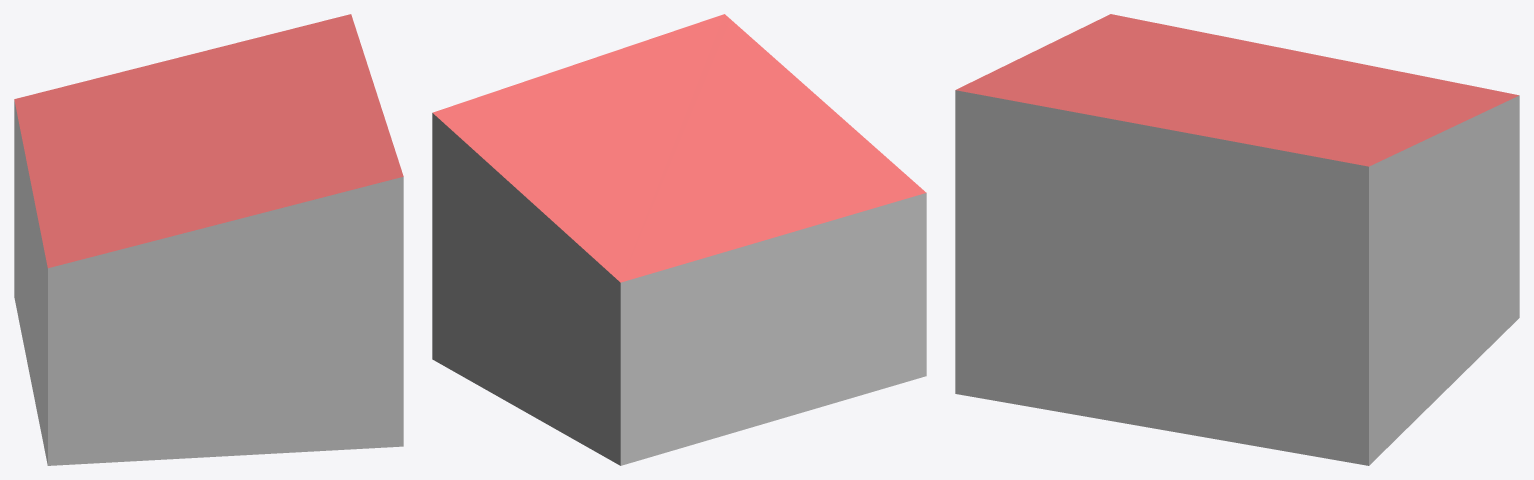
The model's file is DEBY_LOD2_4908159.gltf.
3 views of the same model, side by side, from view 1: azimuth 30°, elevation 25°; view 2: azimuth 150°, elevation 25°; view 3: azimuth 270°, elevation 25° (orthographic). The views are drawn at different scales.
Parts seen in each view (by area): view 1: Z_UP; view 2: Z_UP; view 3: Z_UP.
Part boxes in pixels (x1=…): Z_UP: x1=14, y1=14, x2=403, y2=465; Z_UP: x1=432, y1=14, x2=926, y2=465; Z_UP: x1=955, y1=14, x2=1519, y2=465.
Size of the model in its own units: 7.93 by 4.89 by 8.24.
